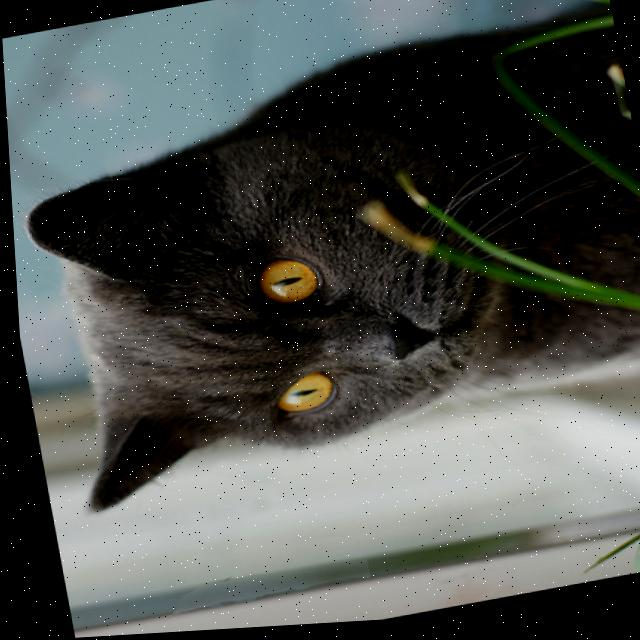British Shorthair: (1, 0, 640, 521)
